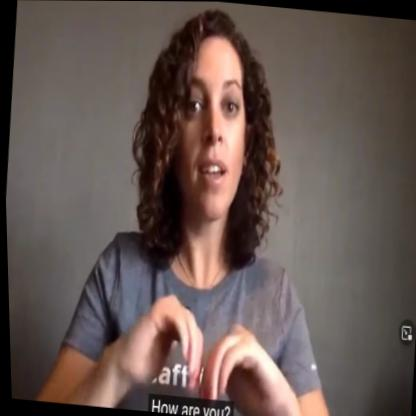HowAreYou: (112, 277, 295, 416)
